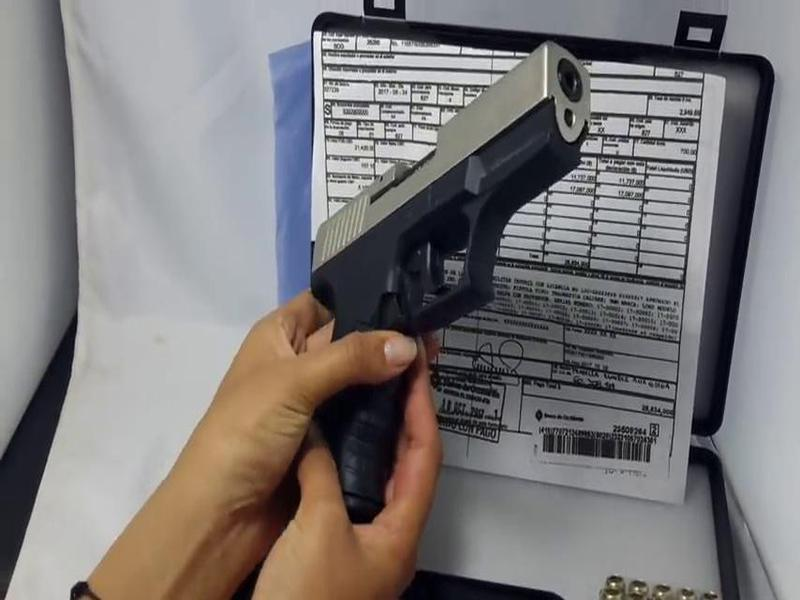Pistola: (315, 48, 620, 519)
